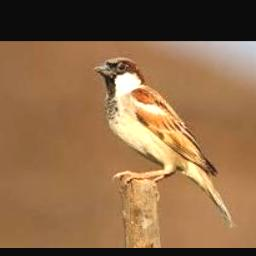Sparrow: (94, 57, 236, 229)
